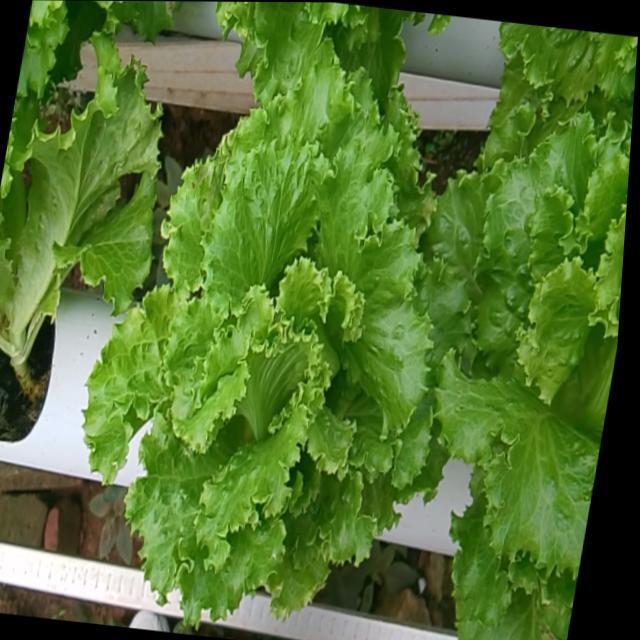Mature: (83, 66, 436, 621), (423, 116, 630, 584)
